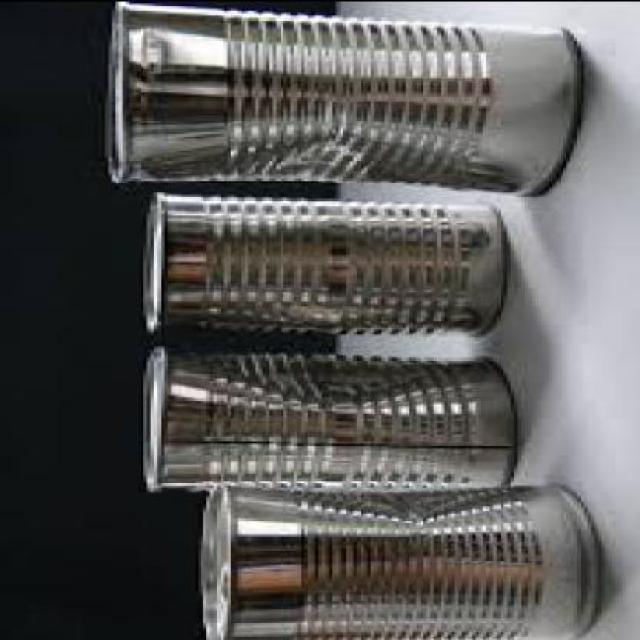METAL: (105, 2, 581, 198), (195, 483, 600, 639), (144, 349, 518, 494), (144, 193, 504, 335)
